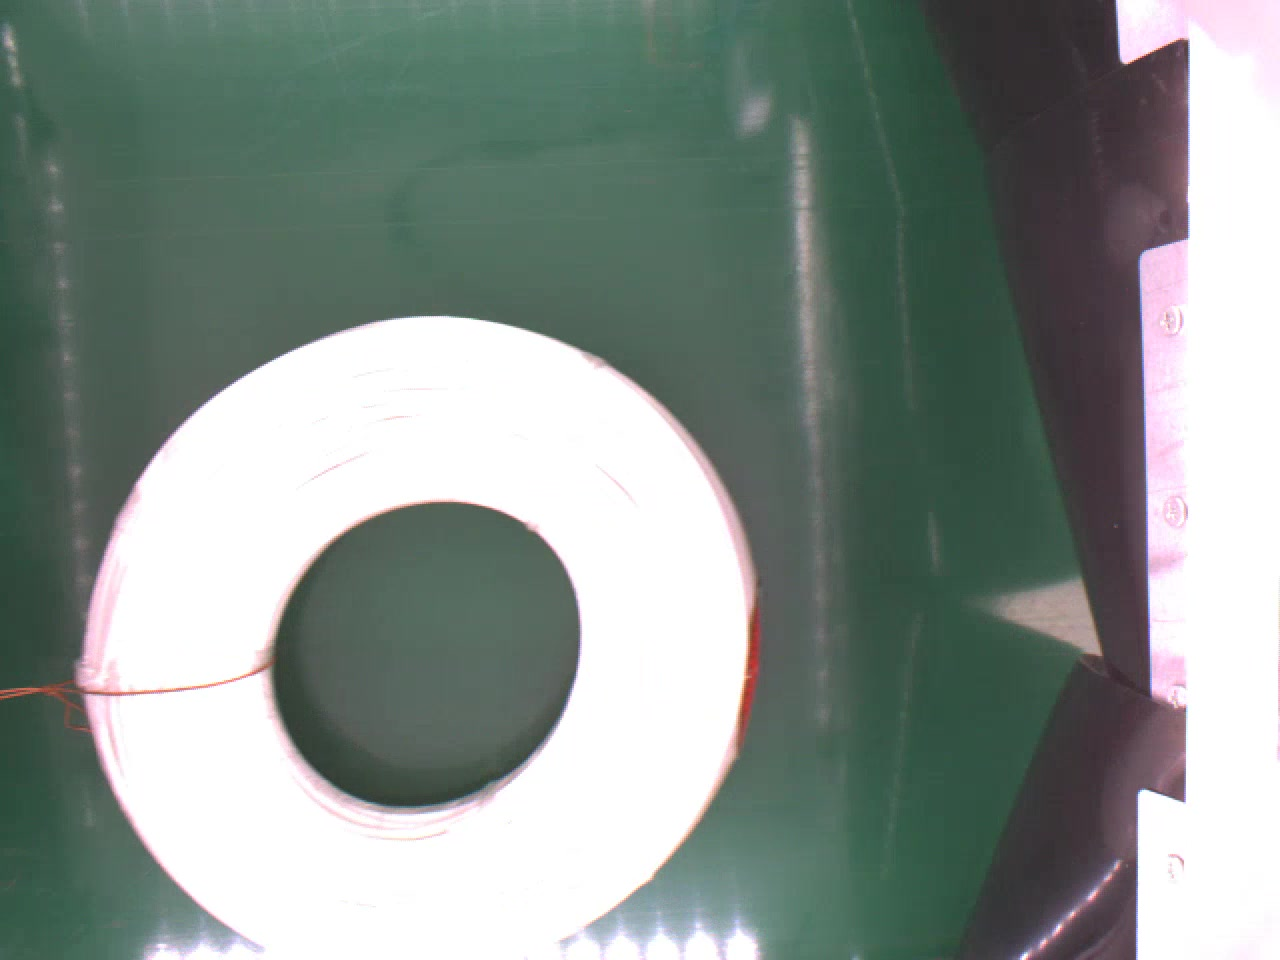white: (78, 312, 766, 960)
